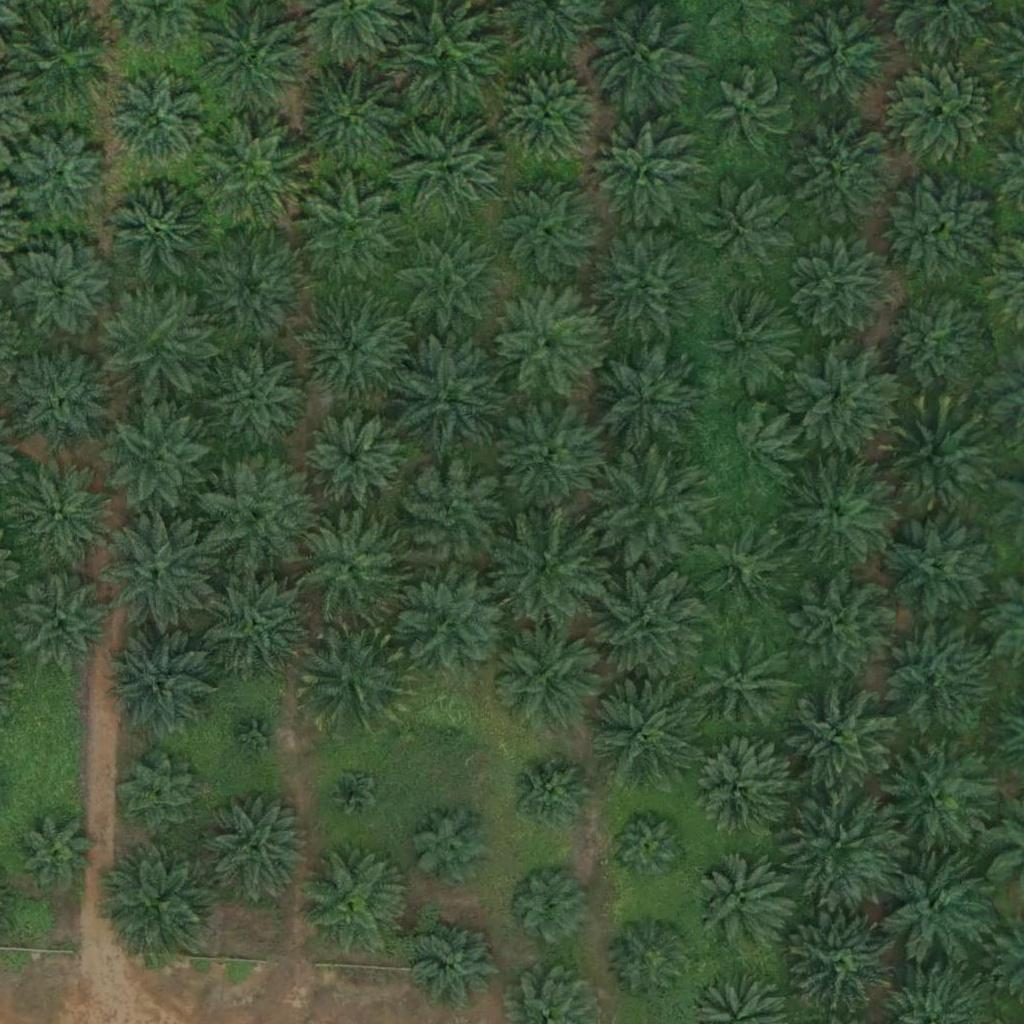Kelapa_Sawit: (296, 174, 409, 288), (588, 669, 701, 783), (491, 400, 604, 514), (488, 510, 601, 624), (389, 229, 502, 343), (391, 339, 504, 453), (299, 294, 412, 408), (295, 61, 408, 174), (588, 121, 701, 234), (786, 229, 899, 342), (883, 509, 996, 622), (879, 619, 992, 732), (788, 343, 901, 456), (779, 456, 892, 569), (785, 573, 898, 686), (493, 620, 606, 733), (395, 460, 508, 573), (103, 404, 216, 517), (103, 517, 216, 630), (106, 632, 219, 745), (1, 453, 114, 566), (106, 845, 219, 958), (787, 791, 900, 904), (788, 908, 901, 1021), (884, 739, 997, 852), (881, 853, 994, 966), (199, 123, 311, 237), (785, 684, 897, 798), (592, 450, 704, 564), (594, 567, 706, 681), (298, 845, 410, 959), (297, 621, 409, 734), (6, 6, 118, 119), (195, 232, 307, 345), (385, 1, 497, 114), (393, 115, 505, 228), (492, 172, 604, 285), (591, 229, 703, 342), (890, 173, 1002, 286), (881, 289, 993, 402), (880, 404, 992, 517), (590, 344, 702, 457), (490, 287, 602, 400), (400, 567, 512, 680), (295, 511, 407, 624), (195, 457, 307, 570), (199, 564, 311, 677), (98, 286, 210, 399), (199, 795, 311, 908), (10, 123, 110, 224), (12, 242, 112, 343), (112, 184, 212, 285), (497, 63, 597, 164), (795, 124, 895, 225), (893, 60, 993, 161), (700, 290, 800, 391), (304, 408, 404, 509), (206, 349, 306, 450), (12, 346, 112, 447), (13, 573, 113, 674), (688, 741, 788, 842), (694, 853, 794, 954), (107, 71, 207, 171), (692, 517, 792, 617), (696, 636, 796, 736), (709, 407, 797, 495), (415, 918, 503, 1006), (703, 67, 790, 155), (704, 183, 791, 271), (118, 753, 205, 841), (409, 803, 496, 891), (508, 753, 595, 841), (505, 862, 592, 950), (607, 917, 694, 1005), (17, 814, 92, 889), (610, 809, 685, 884), (233, 711, 283, 762), (327, 767, 377, 818), (424, 704, 474, 754)
